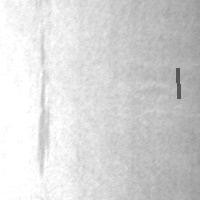inclusion: (31, 23, 58, 184), (175, 66, 180, 100)
